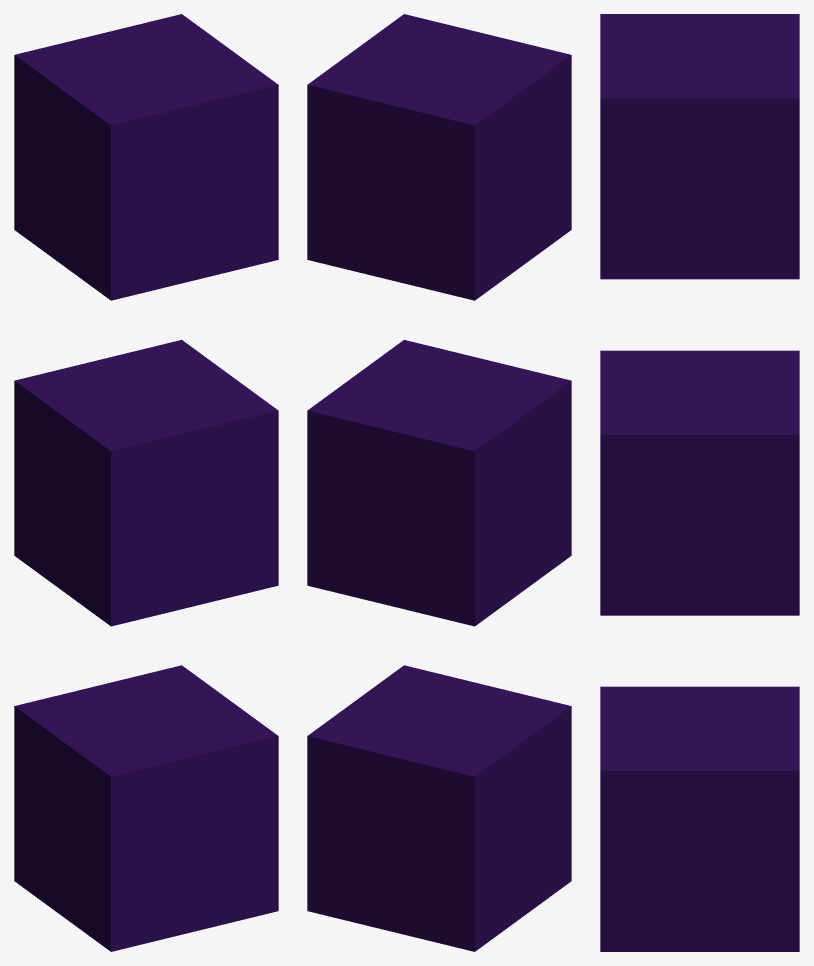
Rendered from Stack.fbx.
3 views of the same model, side by side, from view 1: azimuth 30°, elevation 25°; view 2: azimuth 150°, elevation 25°; view 3: azimuth 270°, elevation 25° (orthographic). The views are drawn at different scales.
Visible parts, largest first — view 1: Cube_1, Cube_1_2, Cube_1_3; view 2: Cube_1, Cube_1_2, Cube_1_3; view 3: Cube_1, Cube_1_2, Cube_1_3.
Part boxes in pixels (bbox=[...]): Cube_1: bbox=[14, 14, 278, 300]; Cube_1_2: bbox=[14, 340, 278, 626]; Cube_1_3: bbox=[14, 665, 278, 951]; Cube_1: bbox=[307, 14, 571, 300]; Cube_1_2: bbox=[307, 340, 571, 626]; Cube_1_3: bbox=[307, 665, 571, 951]; Cube_1: bbox=[600, 14, 799, 279]; Cube_1_2: bbox=[600, 350, 799, 615]; Cube_1_3: bbox=[600, 686, 799, 951].
Size of the model in its own units: 1711 by 8070 by 1711.
